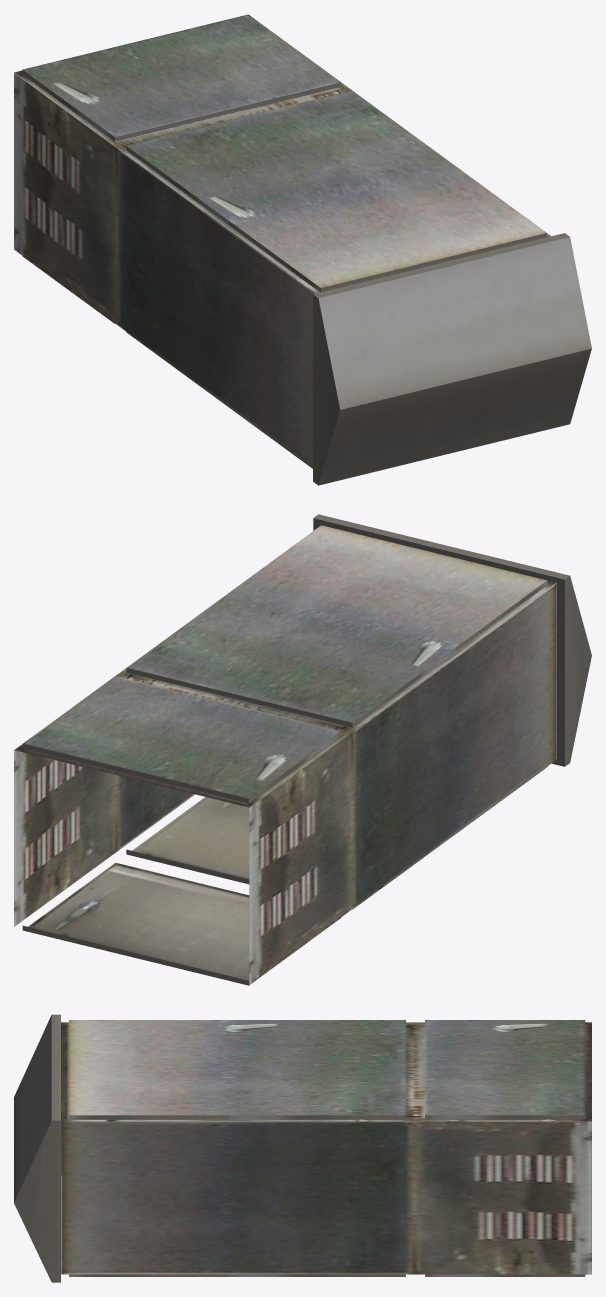
The model's file is ftzbzsb-dzx-090-geode.glb.
3 views of the same model, one above another, from view 1: azimuth 30°, elevation 25°; view 2: azimuth 150°, elevation 25°; view 3: azimuth 270°, elevation 25° (orthographic). The views are drawn at different scales.
Parts seen in each view (by area): view 1: Node; view 2: Node; view 3: Node.
Part boxes in pixels (x1=…): Node: x1=14, y1=14, x2=591, y2=485; Node: x1=14, y1=514, x2=591, y2=985; Node: x1=14, y1=1014, x2=591, y2=1282.
Size of the model in its own units: 0.61 by 0.4339 by 1.4.
Materials: 4 (4 with a texture image).
